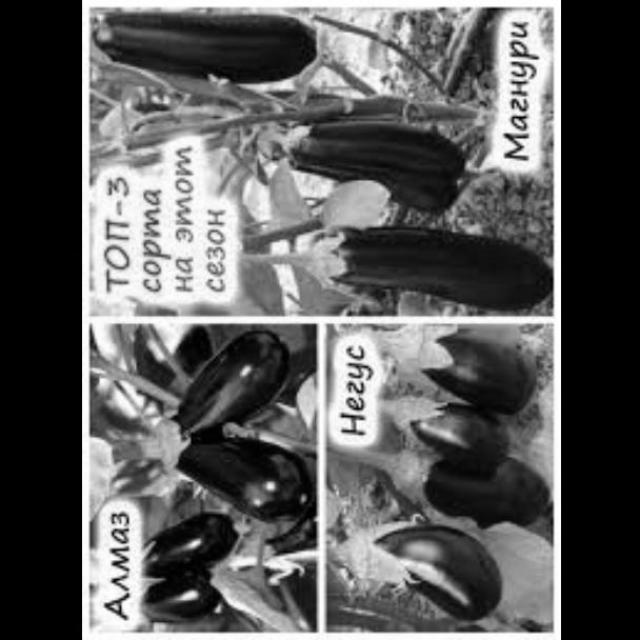eggplant: (80, 1, 358, 113), (239, 211, 550, 311), (231, 89, 494, 199), (155, 327, 296, 460), (328, 512, 499, 614), (376, 370, 536, 466), (363, 442, 549, 522), (392, 310, 550, 404), (175, 429, 312, 523), (136, 506, 226, 590), (122, 574, 219, 632)
